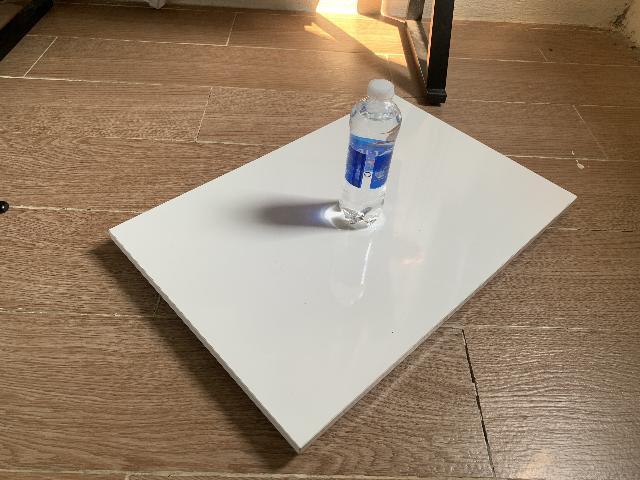aquafina: (339, 79, 402, 226)
